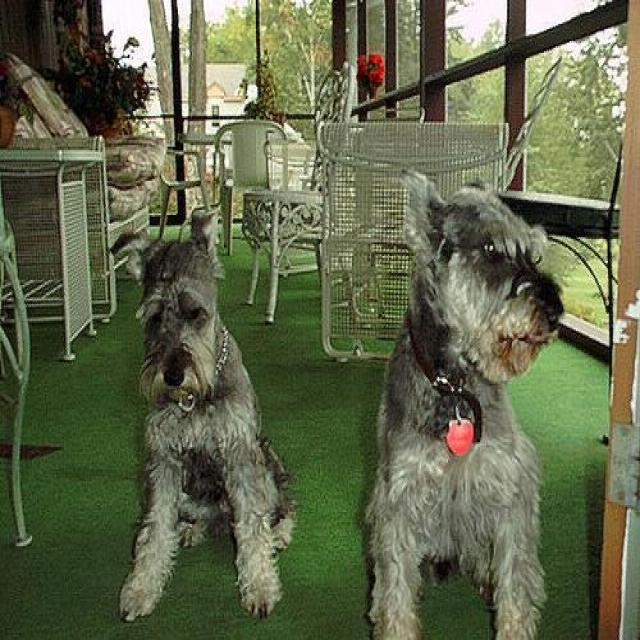standard_schnauzer: (376, 174, 562, 638), (120, 208, 293, 625)
